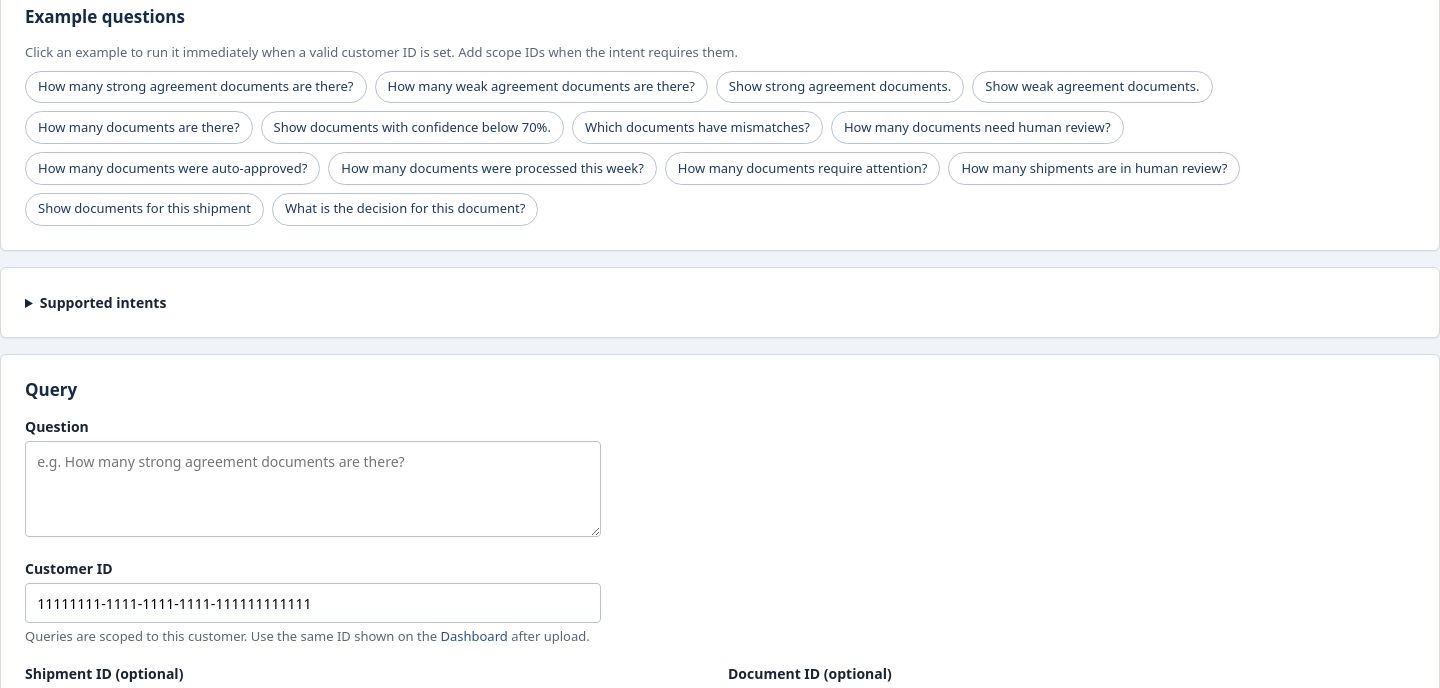
Test case: QueryPage › renders UNSUPPORTED status
The image size is (1440, 688).
Type "Predict vessel ETA" into the text box labelled "Question".
click(313, 489); type("Predict vessel ETA")  # box left=25, top=441, right=601, bottom=537
(page scrolled)
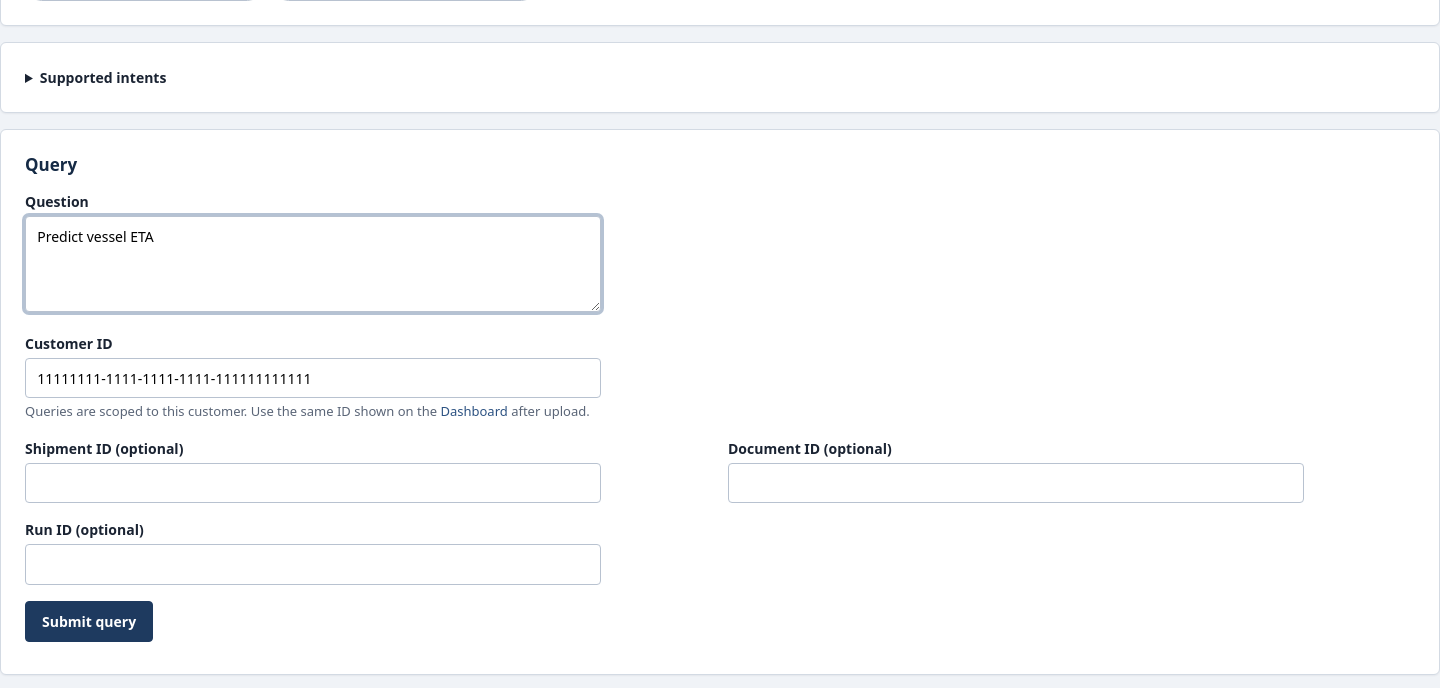
Click the button "Submit query".
click(89, 621)  # box left=25, top=601, right=153, bottom=642
(page scrolled)
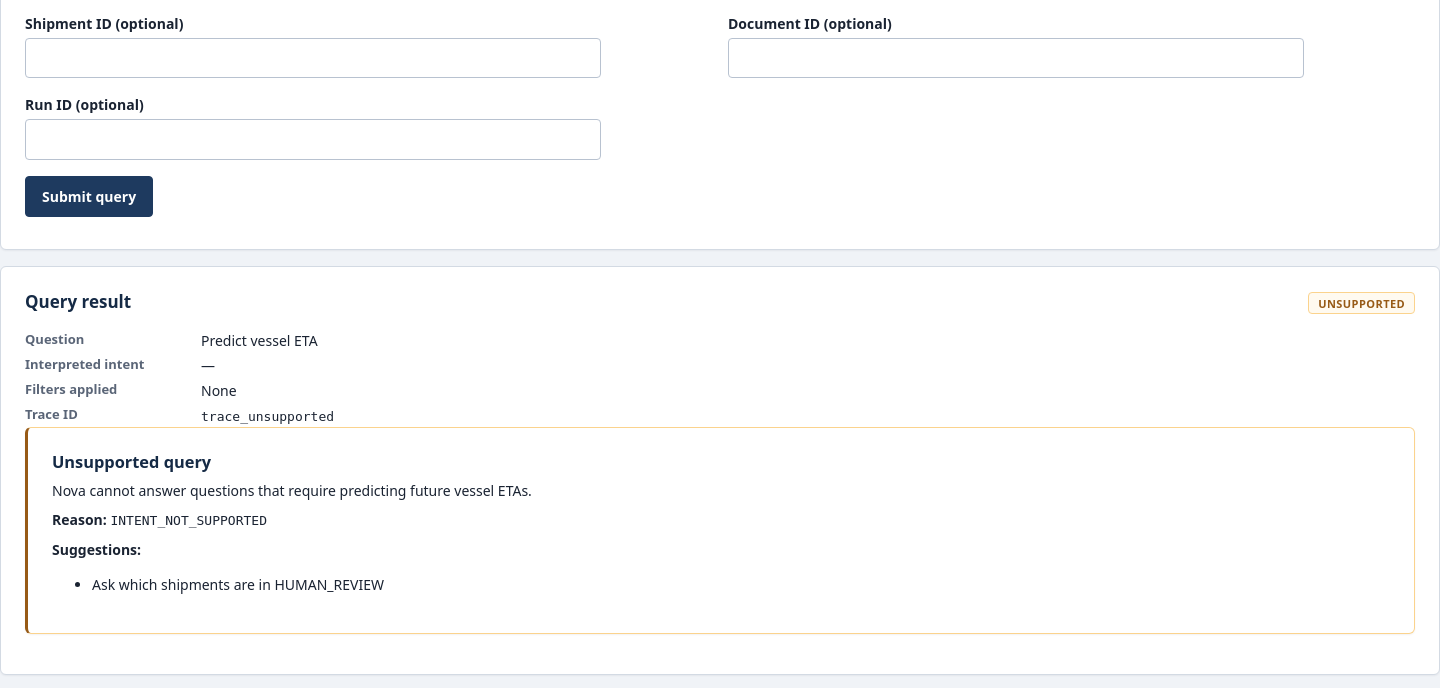
Expected: the text "cannot answer questions that require predicting" is shown, left=52, top=481, right=532, bottom=500
Expected: the text "UNSUPPORTED" is shown, left=1308, top=292, right=1415, bottom=314
